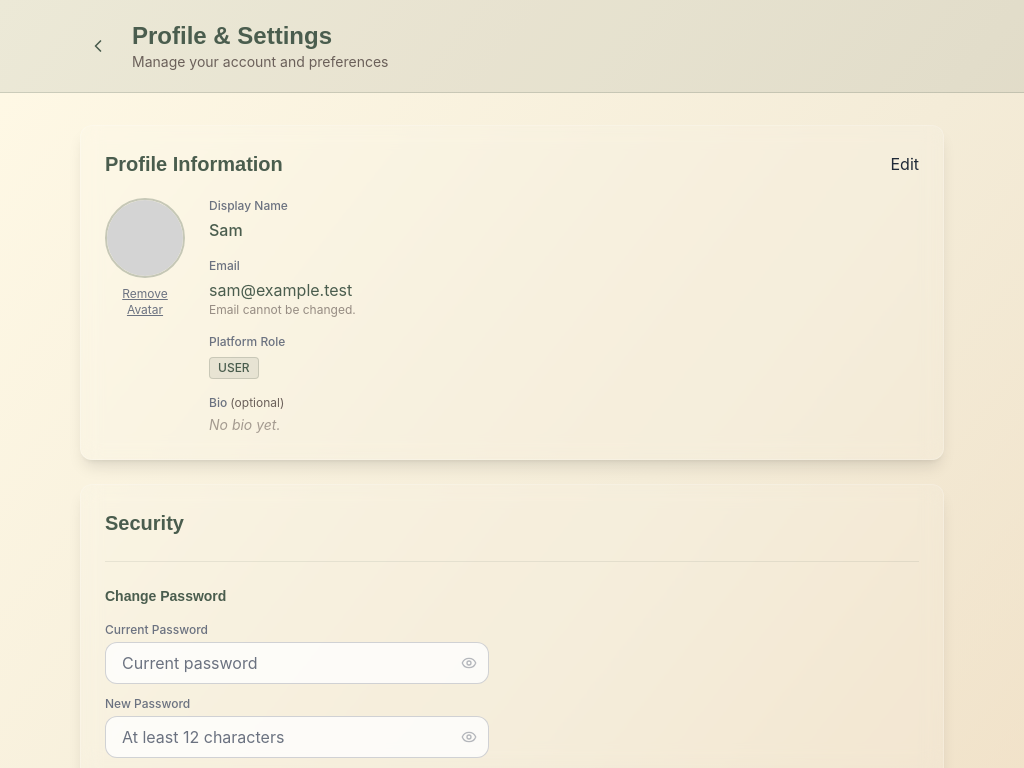
Test case: Remove Avatar › clears the avatar and reloads the profile
Step 1. Click the button "Remove Avatar" → (145, 302), box [105,286,185,318]
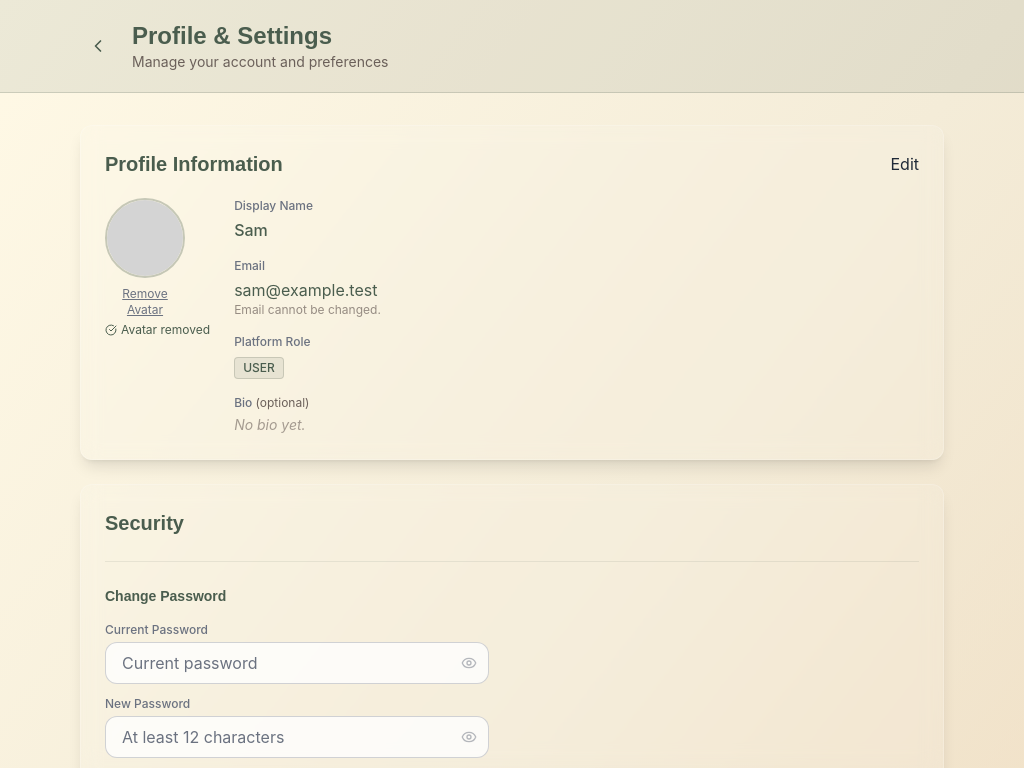
Expected: the text "Avatar removed" is shown, [105,322,210,338]
